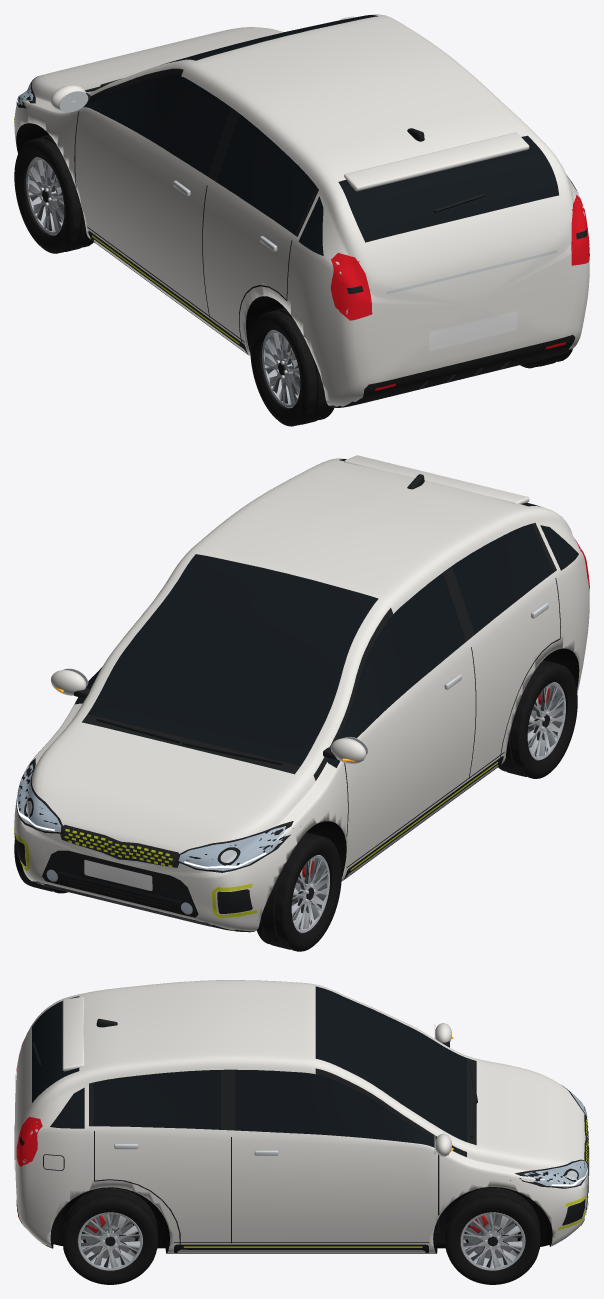
The model's file is test-car.glb.
The picture shows the model from 3 angles, top to bottom: view 1: azimuth 30°, elevation 25°; view 2: azimuth 150°, elevation 25°; view 3: azimuth 270°, elevation 25°; orthographic projection. The views are drawn at different scales.
Parts seen in each view (by area): view 1: Body, Wheel_RL_mesh, Wheel_FL_mesh; view 2: Body, Wheel_FL_mesh, Wheel_RL_mesh; view 3: Body, Wheel_FR_mesh, Wheel_RR_mesh.
Part boxes in pixels (box(x1,y1,x2,y2)): Body: box(14, 14, 589, 407); Wheel_RL_mesh: box(250, 307, 334, 426); Wheel_FL_mesh: box(14, 134, 93, 253); Body: box(14, 455, 589, 932); Wheel_FL_mesh: box(256, 832, 341, 951); Wheel_RL_mesh: box(498, 660, 577, 778); Body: box(14, 980, 589, 1253); Wheel_FR_mesh: box(445, 1187, 540, 1284); Wheel_RR_mesh: box(62, 1187, 157, 1284).
Bounding box in the file's own units: 1.84 × 1.5 × 3.61.
